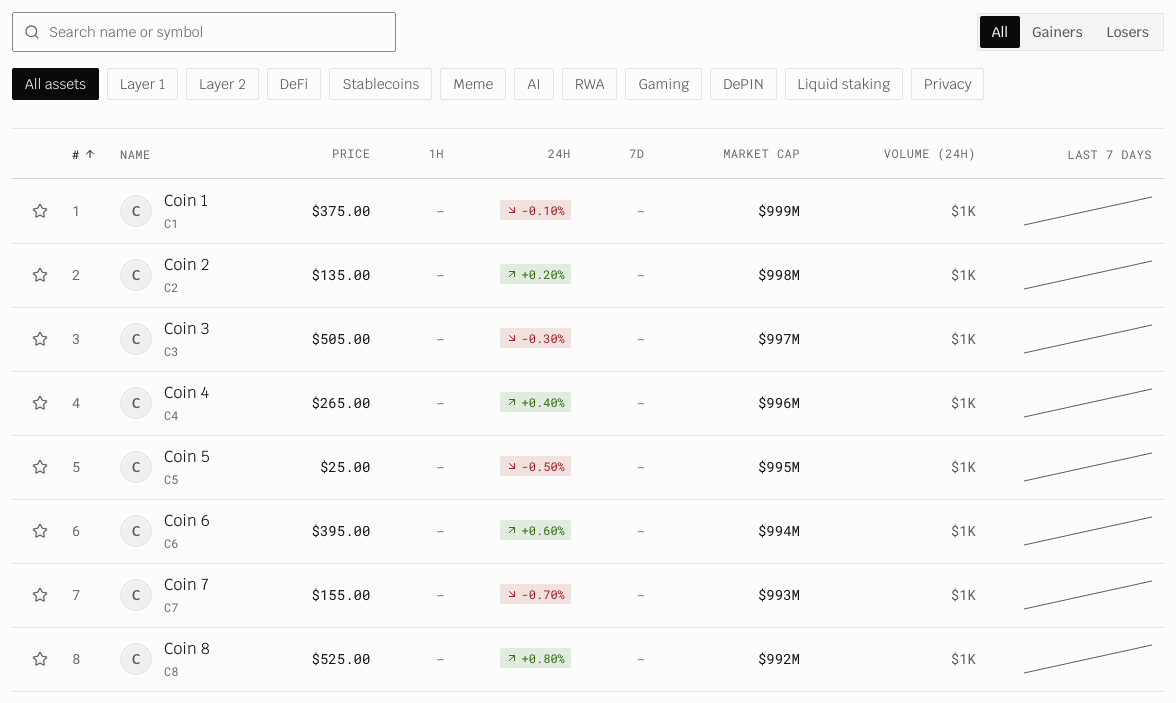
Test: MarketsExplorer: search › is debounced, case-insensitive, and written to the URL
Type "COIN 7" into the search field named "Search assets" at (204, 32), box [12,12,396,52]
Wait 300 ms
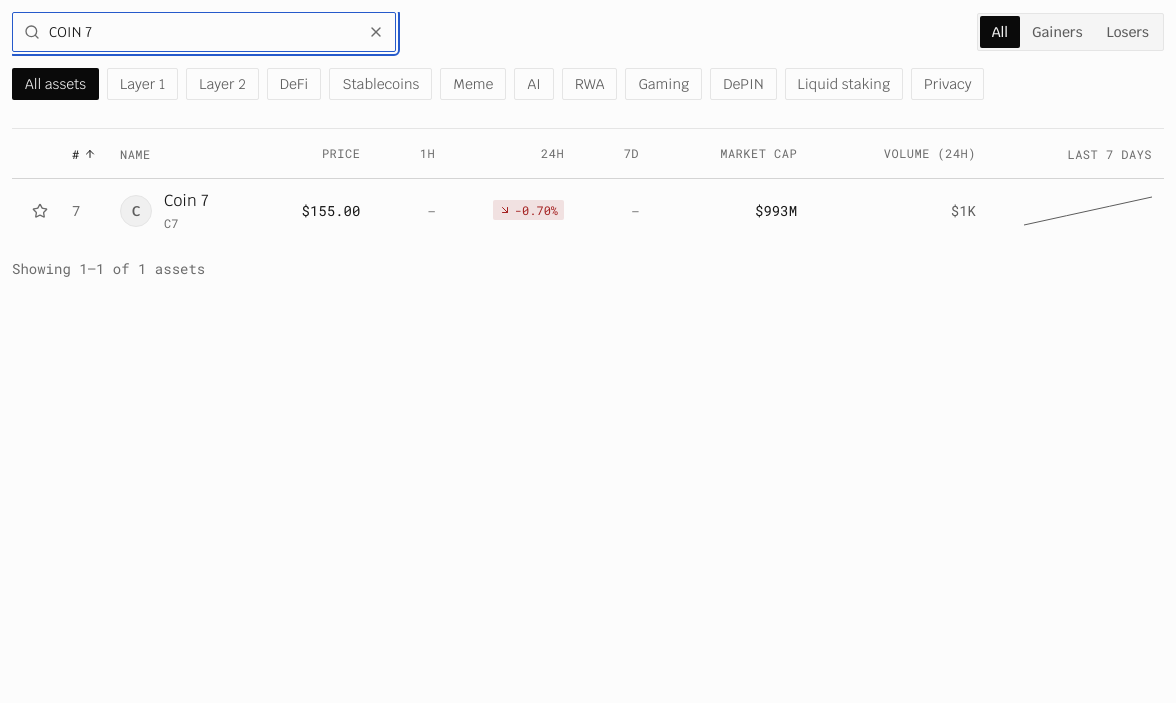
Now the message reads "Showing 1–1 of 1 assets", box [12,259,205,278]
